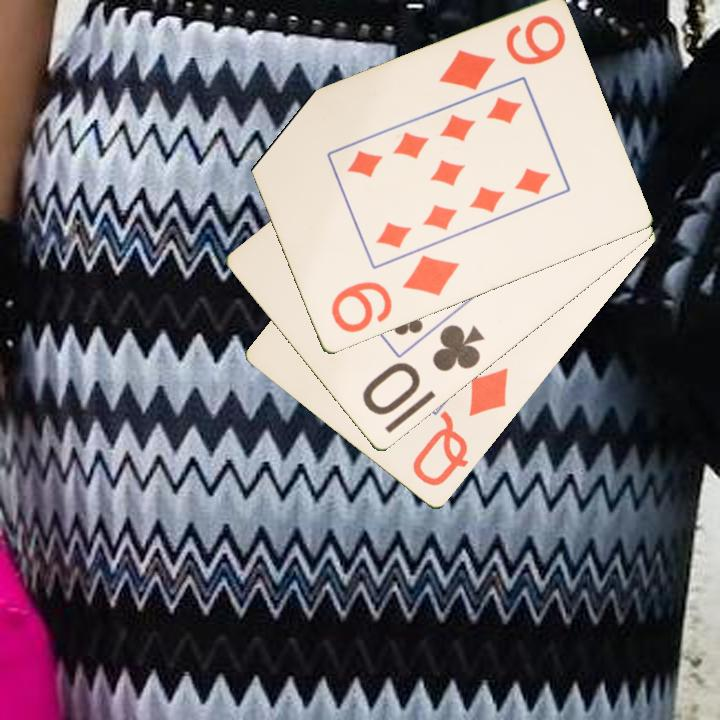10c: (358, 321, 488, 419)
9d: (327, 252, 462, 337), (435, 12, 569, 94)
Qd: (408, 364, 511, 490)
